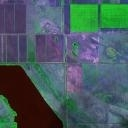alloviz: (1, 63, 66, 128)
